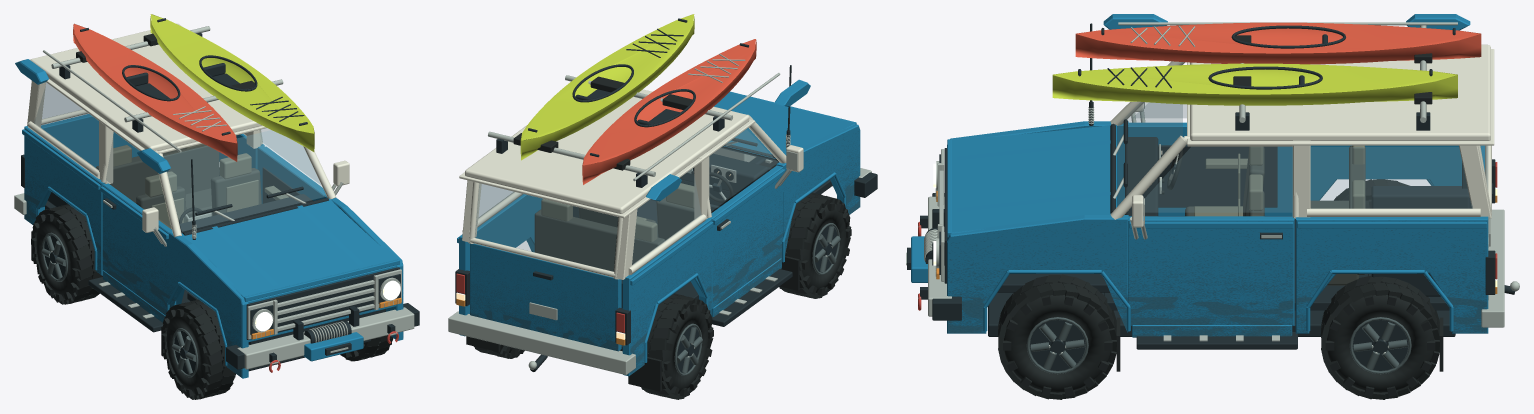
File: trail-suv.glb
3 renders of one model, left to right at view 1: azimuth 30°, elevation 25°; view 2: azimuth 150°, elevation 25°; view 3: azimuth 270°, elevation 25°, orthographic. The views are drawn at different scales.
Parts seen in each view (by area): view 1: Краска кузова (×4), Тёмные детали (×7), Слоновая кость (×3), Лобовое стекло, Резина (×4), Палуба с открытым кокпитом (×2), Металл, Переднее сиденье, Гранёное днище (×2), Стекло двери (×2), Заднее боковое стекло, Подголовник (+5 smaller); view 2: Краска кузова (×3), Слоновая кость (×2), Резина (×3), Пятая дверь, Палуба с открытым кокпитом (×2), Тёмные детали (×6), Стекло багажника, Металл, Переднее сиденье, Гранёное днище (×2), Заднее боковое стекло (×2), Стекло двери (+4 smaller); view 3: Краска кузова (×4), Тёмные детали (×7), Слоновая кость (×2), Резина (×3), Палуба с открытым кокпитом (×2), Гранёное днище (×2), Заднее боковое стекло, Стекло двери (×2), Следы грязи (×4), Металл, Лобовое стекло, Тёмный диск (×2) (+2 smaller).
Boxes of the visible parts, <box> form: Краска кузова (×4): <box>15,59,403,378</box>; Тёмные детали (×7): <box>21,18,419,374</box>; Слоновая кость (×3): <box>27,23,349,237</box>; Лобовое стекло: <box>164,130,325,231</box>; Резина (×4): <box>31,33,393,399</box>; Палуба с открытым кокпитом (×2): <box>73,14,314,143</box>; Металл: <box>14,26,414,369</box>; Переднее сиденье: <box>96,144,261,222</box>; Гранёное днище (×2): <box>73,14,314,161</box>; Стекло двери (×2): <box>106,128,320,225</box>; Заднее боковое стекло: <box>34,83,98,170</box>; Подголовник: <box>113,143,258,229</box>; Краска кузова (×3): <box>457,79,860,376</box>; Слоновая кость (×2): <box>459,89,786,279</box>; Резина (×3): <box>466,76,851,399</box>; Пятая дверь: <box>470,243,621,351</box>; Палуба с открытым кокпитом (×2): <box>521,14,755,165</box>; Тёмные детали (×6): <box>455,18,877,372</box>; Стекло багажника: <box>475,183,617,271</box>; Металл: <box>448,73,871,374</box>; Переднее сиденье: <box>534,197,694,271</box>; Гранёное днище (×2): <box>520,14,756,184</box>; Заднее боковое стекло (×2): <box>479,169,701,264</box>; Стекло двери: <box>709,129,777,210</box>; Краска кузова (×4): <box>911,14,1488,337</box>; Тёмные детали (×7): <box>907,23,1515,370</box>; Слоновая кость (×2): <box>1110,44,1494,227</box>; Резина (×3): <box>998,35,1443,399</box>; Палуба с открытым кокпитом (×2): <box>1053,22,1480,94</box>; Гранёное днище (×2): <box>1052,28,1481,105</box>; Заднее боковое стекло: <box>1311,147,1472,208</box>; Стекло двери (×2): <box>1133,103,1291,212</box>; Следы грязи (×4): <box>948,230,1486,337</box>; Металл: <box>906,22,1519,341</box>; Лобовое стекло: <box>1118,62,1182,204</box>; Тёмный диск (×2): <box>1026,317,1411,374</box>.
Bounding box in the file's own units: 2.12 × 2.35 × 4.45.
